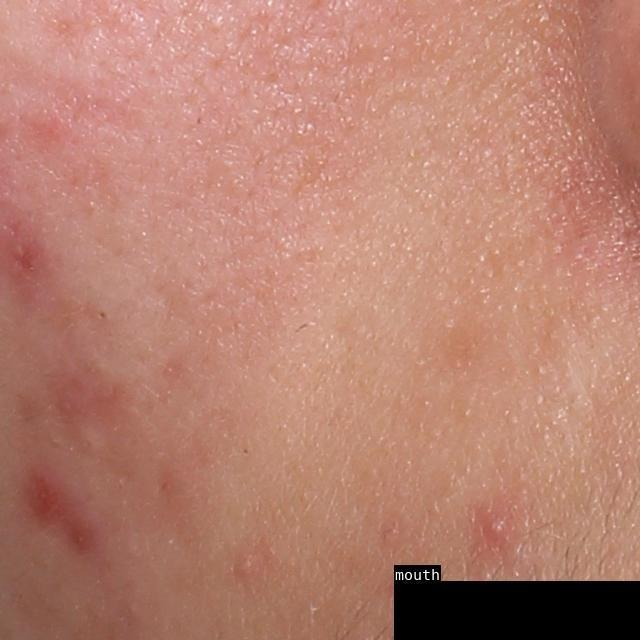comedo: (96, 308, 112, 322)
papule: (24, 468, 68, 530), (481, 507, 515, 545), (229, 550, 264, 580)
